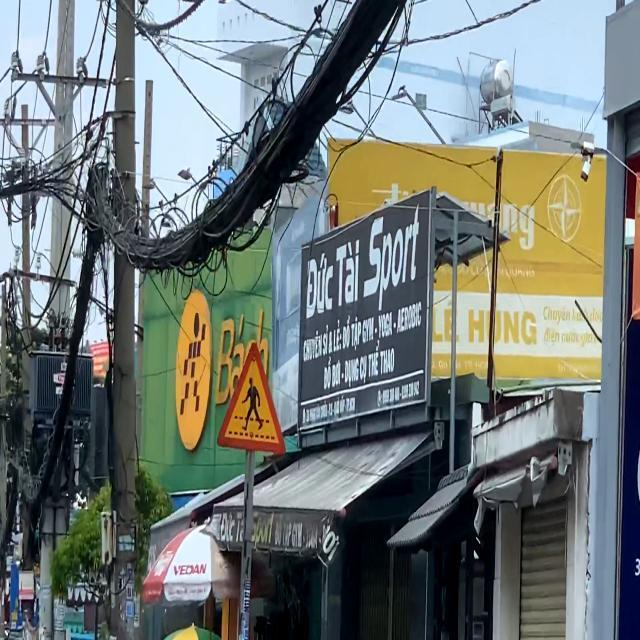224-duong-nguoi-di-bo-cat-ngang: (217, 346, 287, 452)
